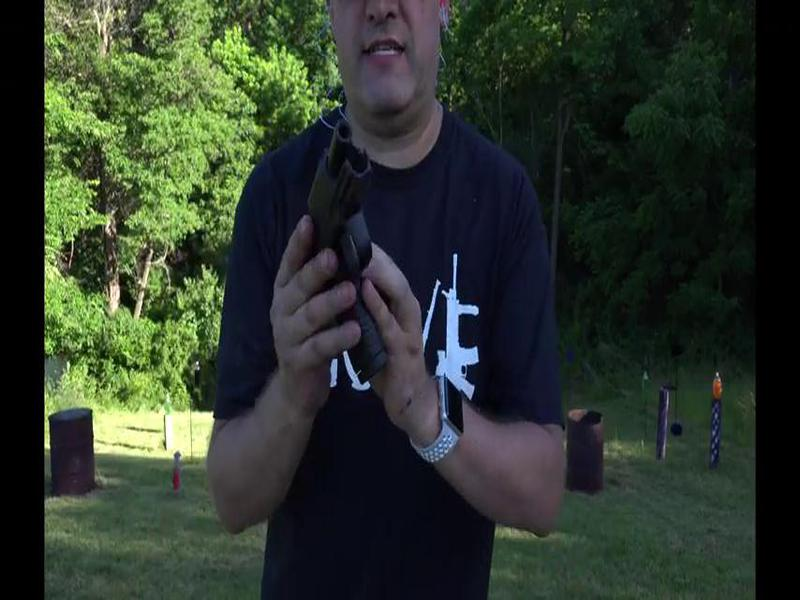Pistola: (297, 114, 415, 384)
